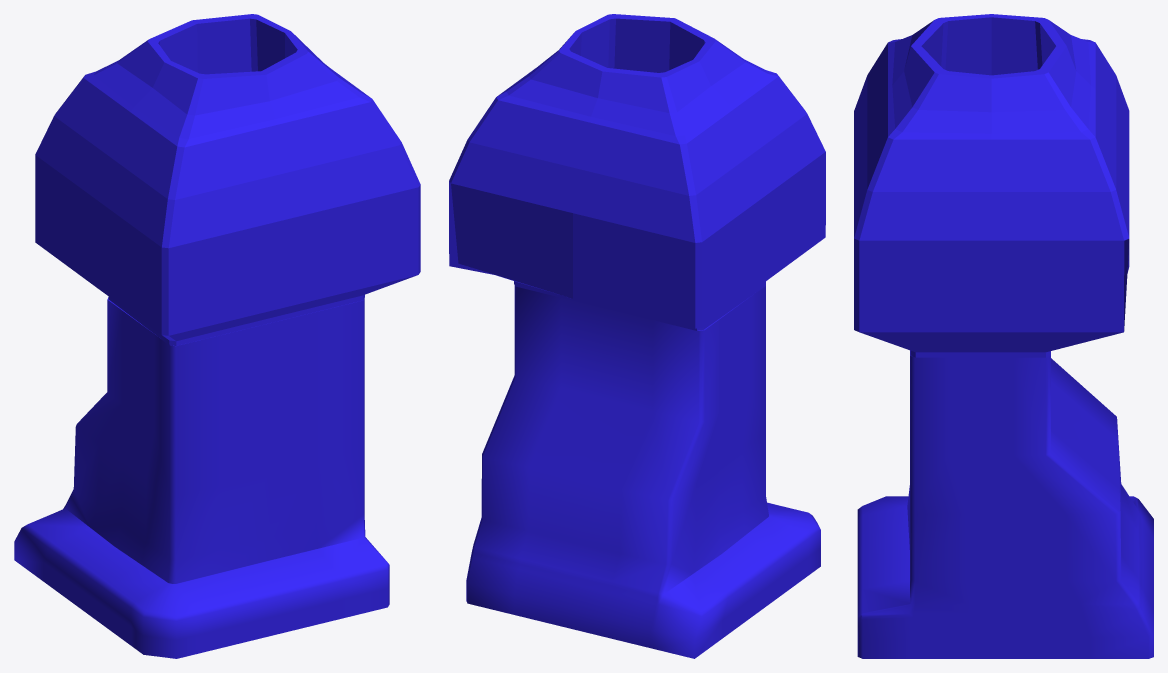
Rendered from Altar.FBX.
3 renders of one model, left to right at view 1: azimuth 30°, elevation 25°; view 2: azimuth 150°, elevation 25°; view 3: azimuth 270°, elevation 25°, orthographic. The views are drawn at different scales.
Parts seen in each view (by area): view 1: Box02, Box01; view 2: Box01, Box02; view 3: Box02, Box01.
Part boxes in pixels (box(x1,y1,x2,y2)): Box02: box(35, 14, 420, 345); Box01: box(14, 297, 389, 658); Box01: box(466, 285, 820, 658); Box02: box(449, 14, 825, 330); Box02: box(854, 14, 1129, 357); Box01: box(857, 350, 1153, 658).
Size of the model in its own units: 0.7825 by 0.7321 by 1.51.
